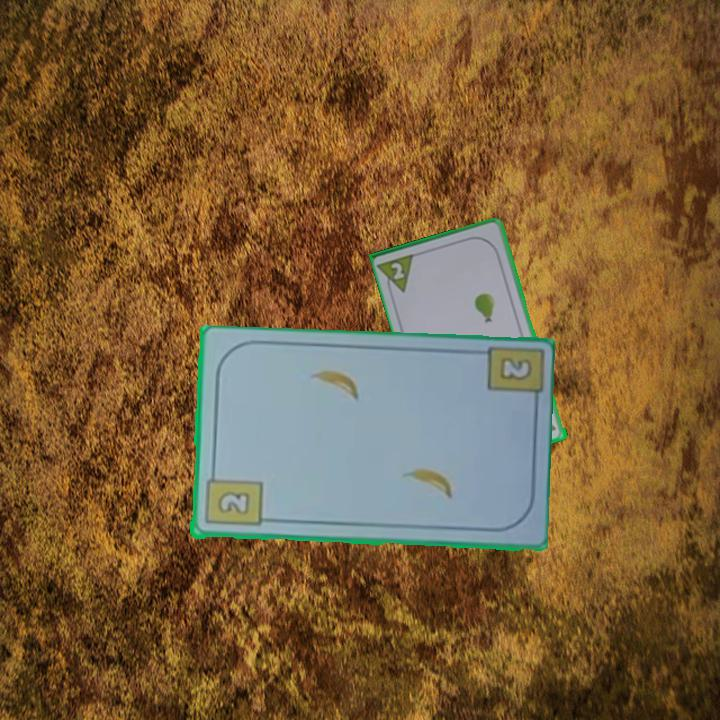2b: (201, 466, 264, 530), (495, 354, 535, 384)
2p: (376, 250, 420, 299)
